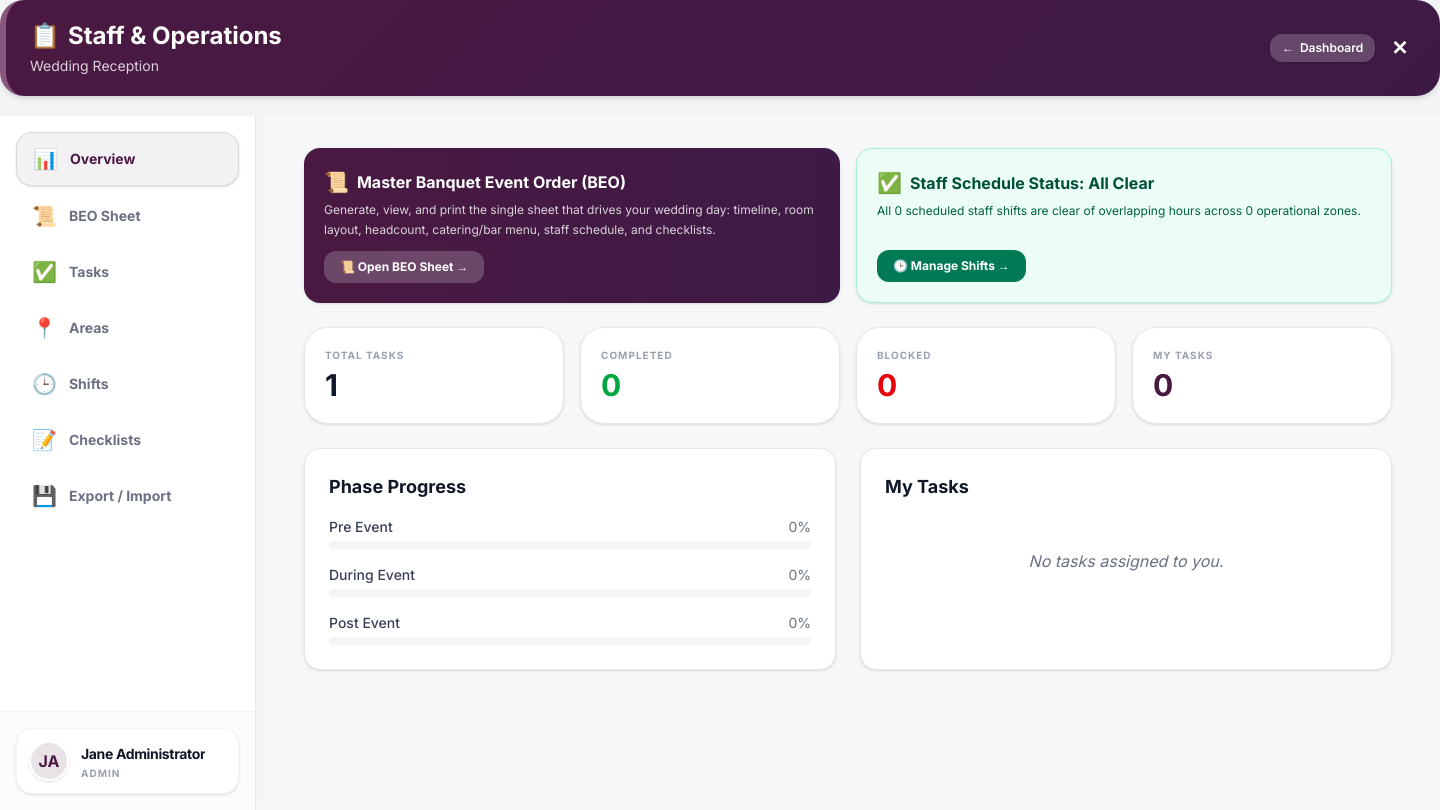
StaffOperationsPanel (Operations Studio Module) › toggles "Show incomplete items only" on Checklists tab
// Switch to Checklists tab
Click the button "📝 Checklists".
click(128, 440)  # box [16,414,239,466]
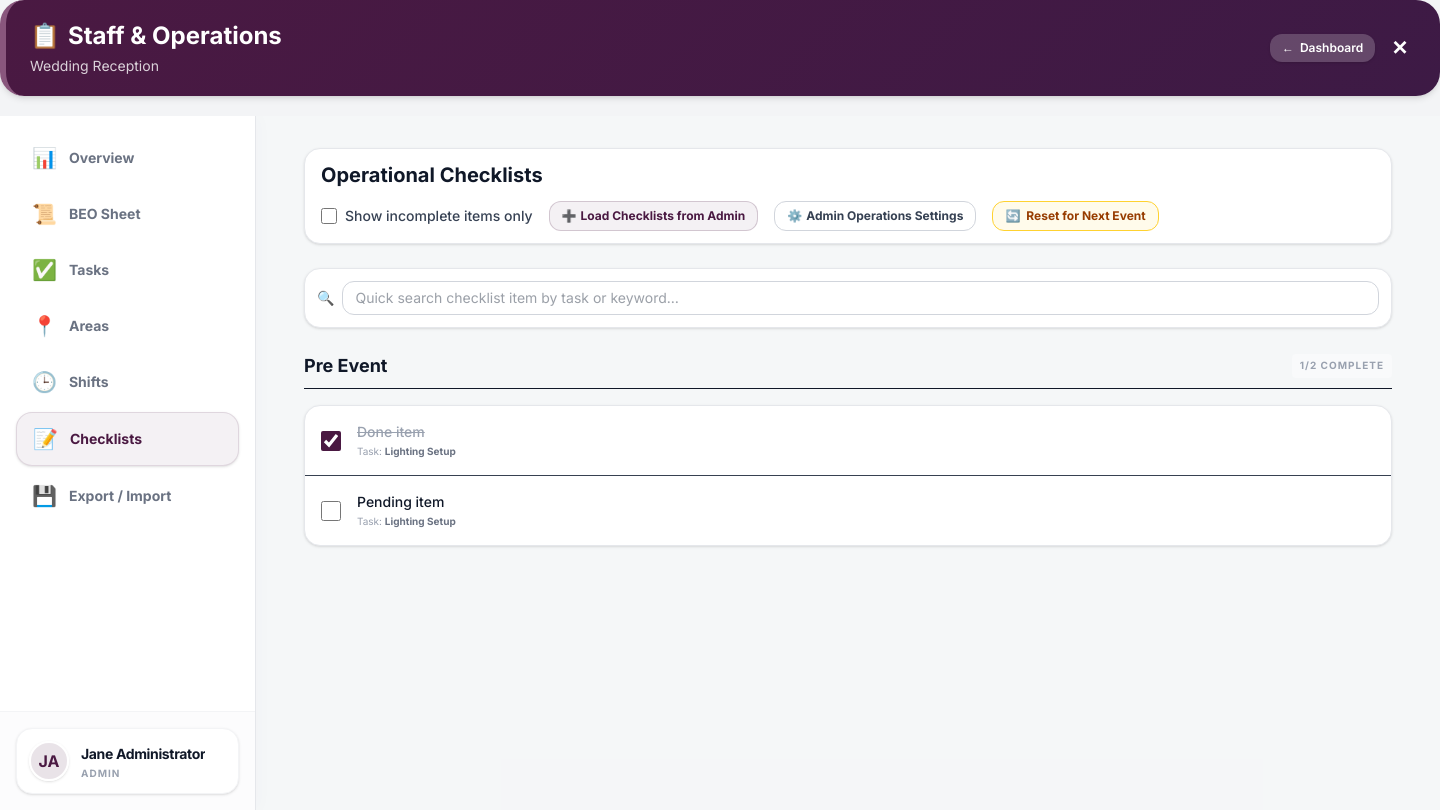
Expected: the text "Done item" is shown 2 times
Expected: the text "Pending item" is shown 2 times
Click the checkbox labelled "Show incomplete items only".
click(329, 216)  # box [321,208,337,224]
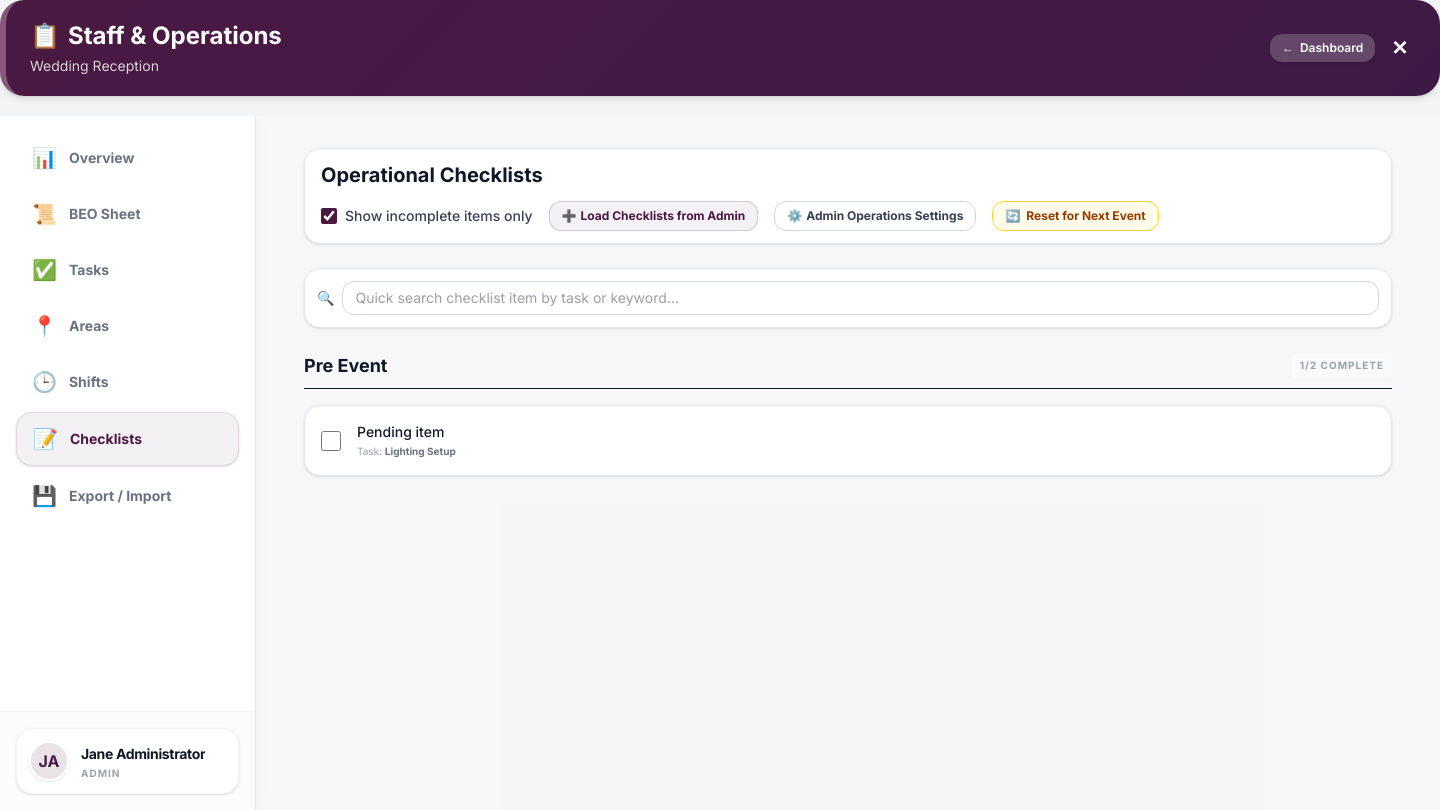
Expected: the text "Pending item" is shown 2 times
